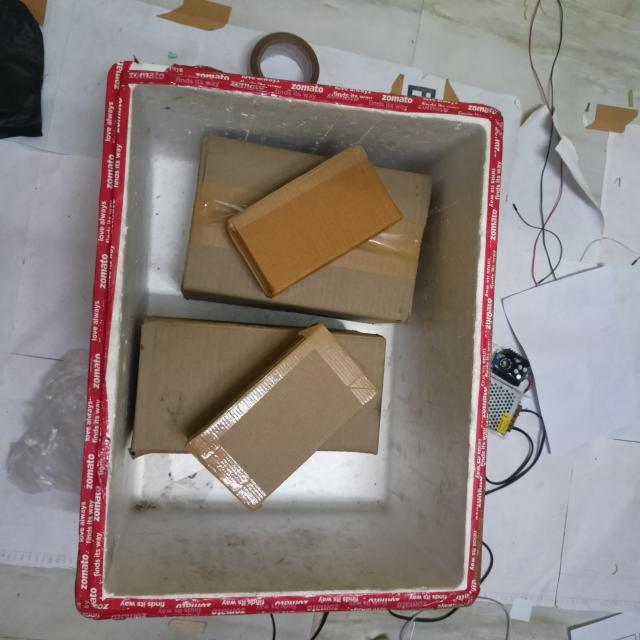box: (193, 323, 381, 512), (228, 143, 399, 290)
